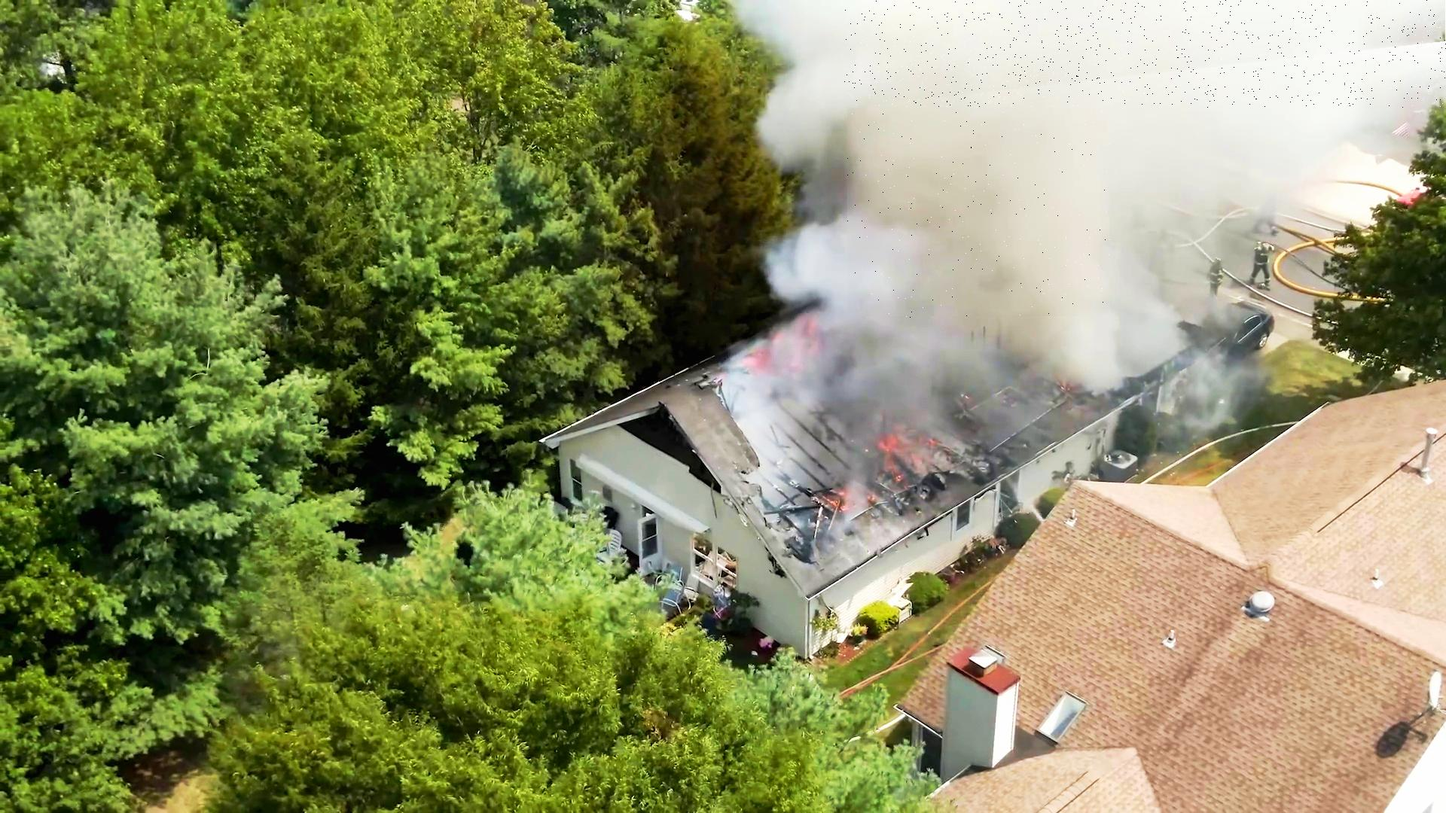smoke: (843, 0, 1446, 108), (848, 80, 1112, 318)
